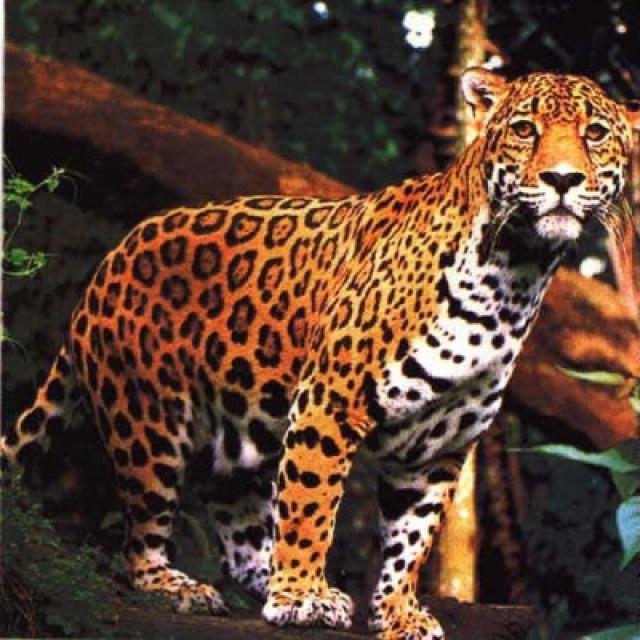Jaguar: (18, 74, 638, 638)
